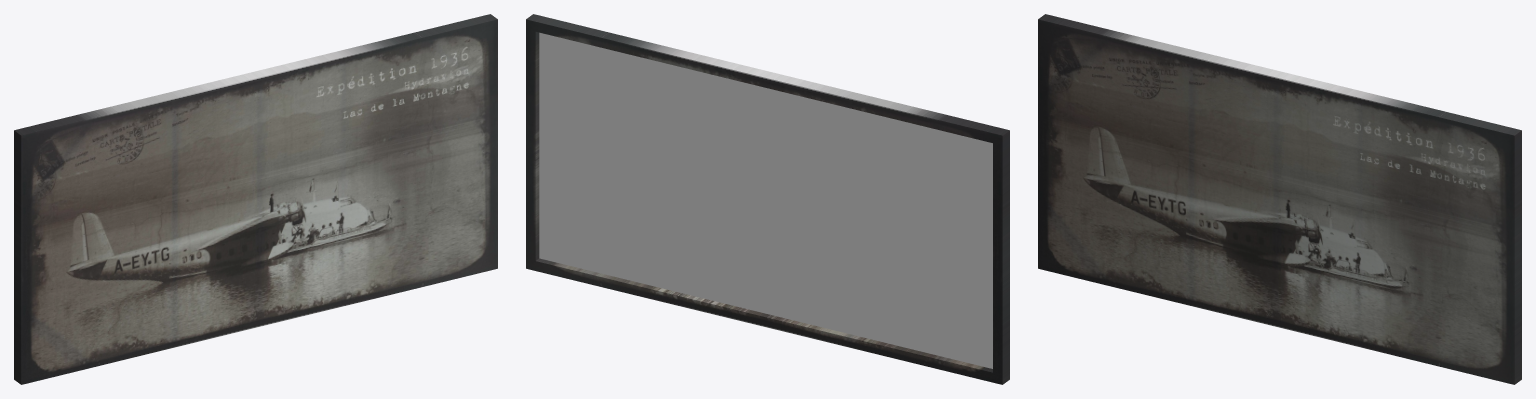
File: Groupe_99.fbx
The picture shows the model from 3 angles, left to right: view 1: azimuth 30°, elevation 25°; view 2: azimuth 150°, elevation 25°; view 3: azimuth 330°, elevation 25°; orthographic projection.
Visible parts, largest first — view 1: Model; view 2: Model; view 3: Model.
Boxes of the visible parts, <box> form: Model: <box>14,14,497,384</box>; Model: <box>526,14,1009,384</box>; Model: <box>1038,14,1521,384</box>.
Bounding box in the file's own units: 150 × 75 × 4.
